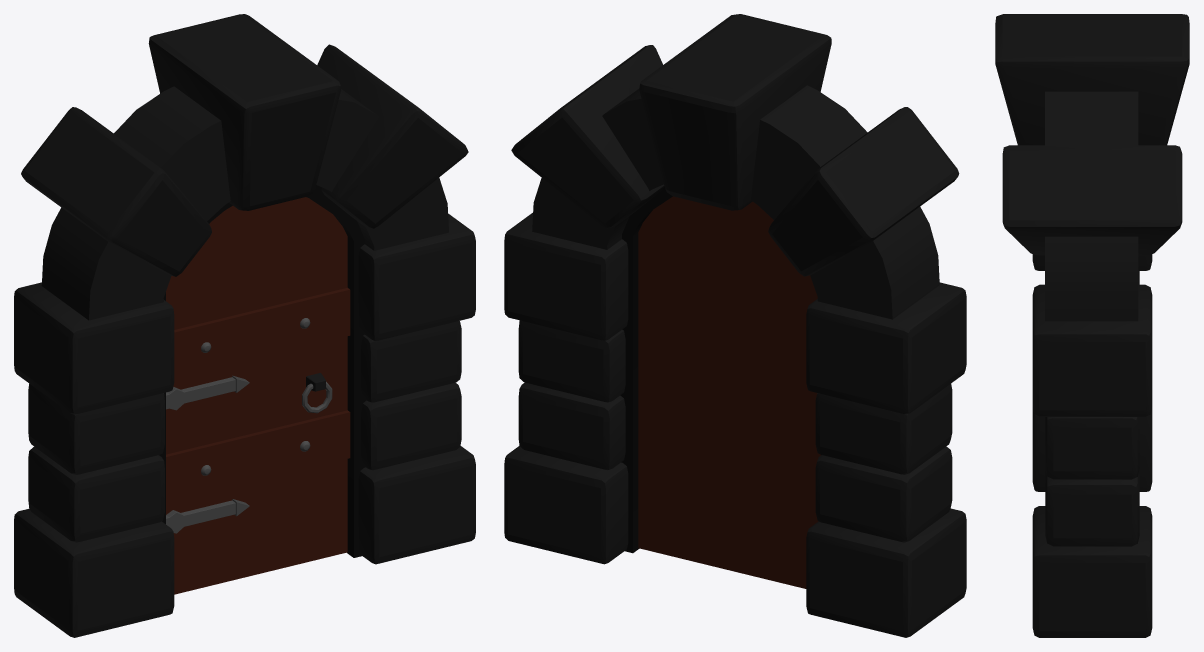
The model's file is S_StoneDoor.fbx.
3 renders of one model, left to right at view 1: azimuth 30°, elevation 25°; view 2: azimuth 150°, elevation 25°; view 3: azimuth 270°, elevation 25°, orthographic.
Visible parts, largest first — view 1: Door1, Door1Wood; view 2: Door1, Door1Wood; view 3: Door1.
Boxes of the visible parts, bbox=[...] form: Door1: bbox=[14, 14, 475, 637]; Door1Wood: bbox=[166, 197, 350, 594]; Door1: bbox=[504, 14, 966, 637]; Door1Wood: bbox=[638, 196, 820, 588]; Door1: bbox=[995, 14, 1189, 637].
Size of the model in its own units: 229 by 276 by 95.76.
